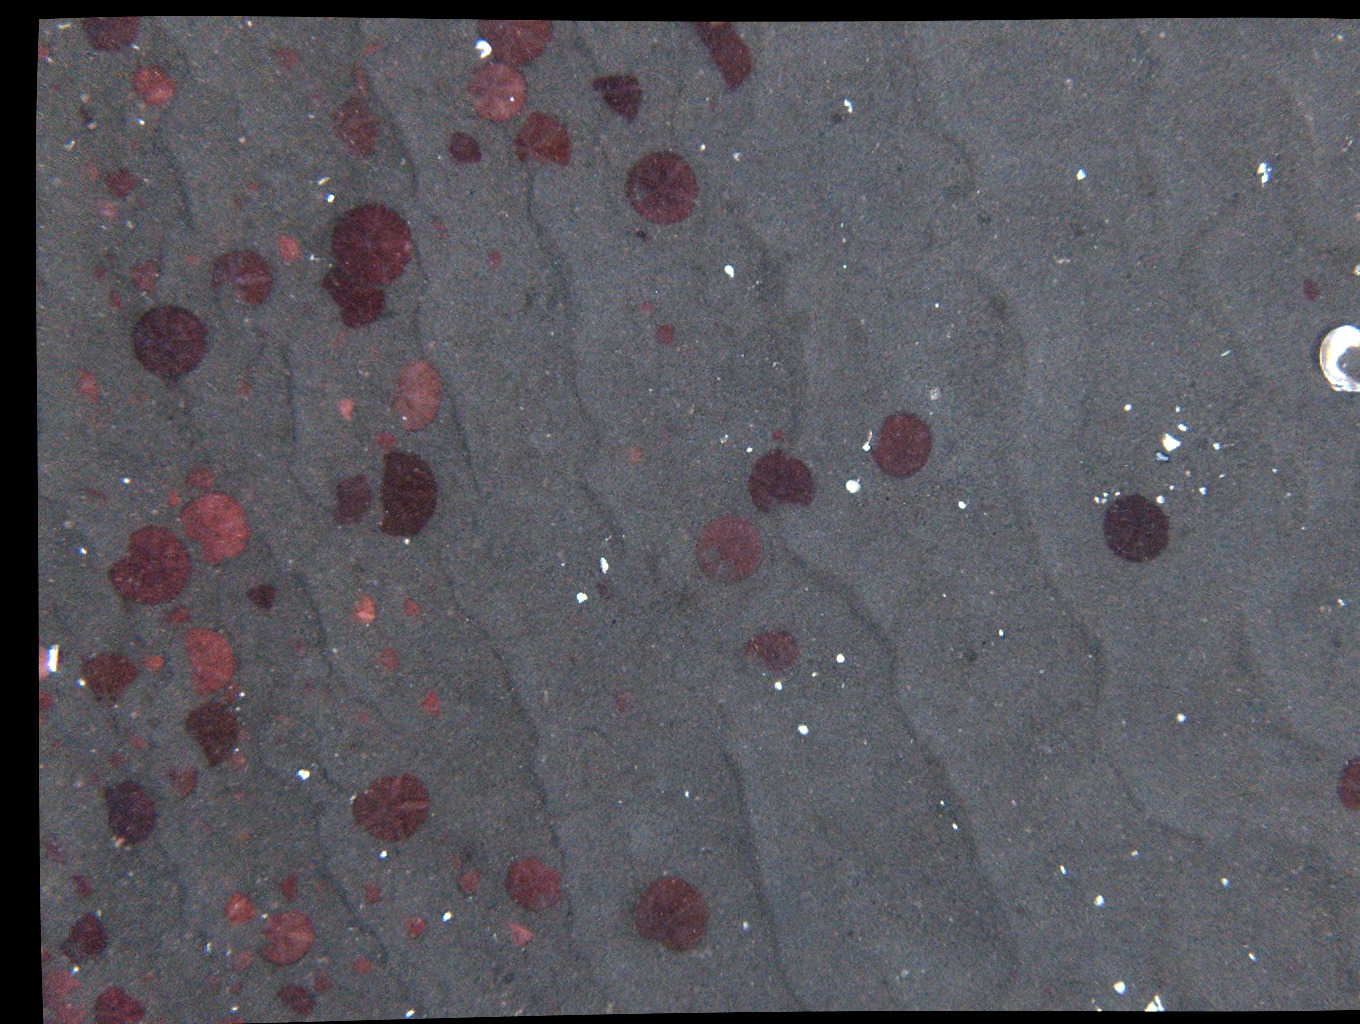Small shell hash: (92, 61, 116, 79)
Substrate A: (74, 100, 95, 106)
sand dollar: (373, 447, 452, 543), (337, 199, 414, 286), (112, 528, 194, 608), (624, 152, 703, 232), (352, 767, 425, 841), (635, 877, 708, 951), (505, 837, 578, 911), (100, 778, 173, 852), (184, 700, 257, 774), (1107, 490, 1180, 565), (873, 407, 946, 481), (689, 22, 762, 96), (383, 357, 456, 431), (317, 268, 390, 342), (504, 111, 577, 185), (463, 61, 536, 136), (324, 87, 397, 161), (217, 246, 290, 321), (746, 446, 819, 520), (175, 490, 248, 564), (174, 631, 247, 705), (133, 304, 206, 378), (693, 509, 765, 583), (311, 468, 377, 534), (84, 646, 151, 712), (256, 902, 320, 970), (475, 18, 555, 72), (742, 620, 810, 682), (55, 914, 120, 968), (76, 13, 145, 61), (99, 967, 156, 1024), (45, 965, 103, 1021), (596, 70, 649, 120), (133, 65, 182, 106), (1342, 753, 1360, 828), (328, 394, 363, 426), (757, 423, 792, 455), (397, 598, 432, 630), (85, 195, 120, 227), (226, 373, 261, 406), (214, 686, 249, 719), (168, 765, 203, 797), (112, 728, 147, 760), (37, 691, 72, 723), (353, 954, 388, 986), (453, 868, 488, 900), (650, 322, 685, 354), (605, 678, 640, 710), (633, 281, 668, 313), (588, 572, 622, 605), (345, 596, 380, 628), (349, 69, 384, 101), (273, 45, 307, 77), (105, 170, 140, 202), (89, 264, 124, 296), (362, 424, 397, 456), (160, 482, 195, 514), (190, 456, 225, 488), (177, 251, 212, 283), (280, 982, 314, 1014), (362, 885, 397, 918), (221, 894, 256, 926), (60, 869, 95, 901), (233, 746, 268, 779), (160, 599, 195, 631), (404, 911, 439, 943), (505, 919, 540, 951), (303, 968, 338, 1000), (484, 247, 519, 279), (615, 446, 650, 478), (413, 689, 448, 721), (368, 645, 403, 677), (127, 264, 162, 295), (267, 234, 302, 266), (227, 943, 262, 975), (121, 959, 157, 991), (38, 646, 73, 678), (143, 646, 178, 678), (446, 136, 481, 167), (247, 575, 282, 607), (280, 873, 314, 905), (72, 371, 101, 407), (1305, 270, 1330, 305)
